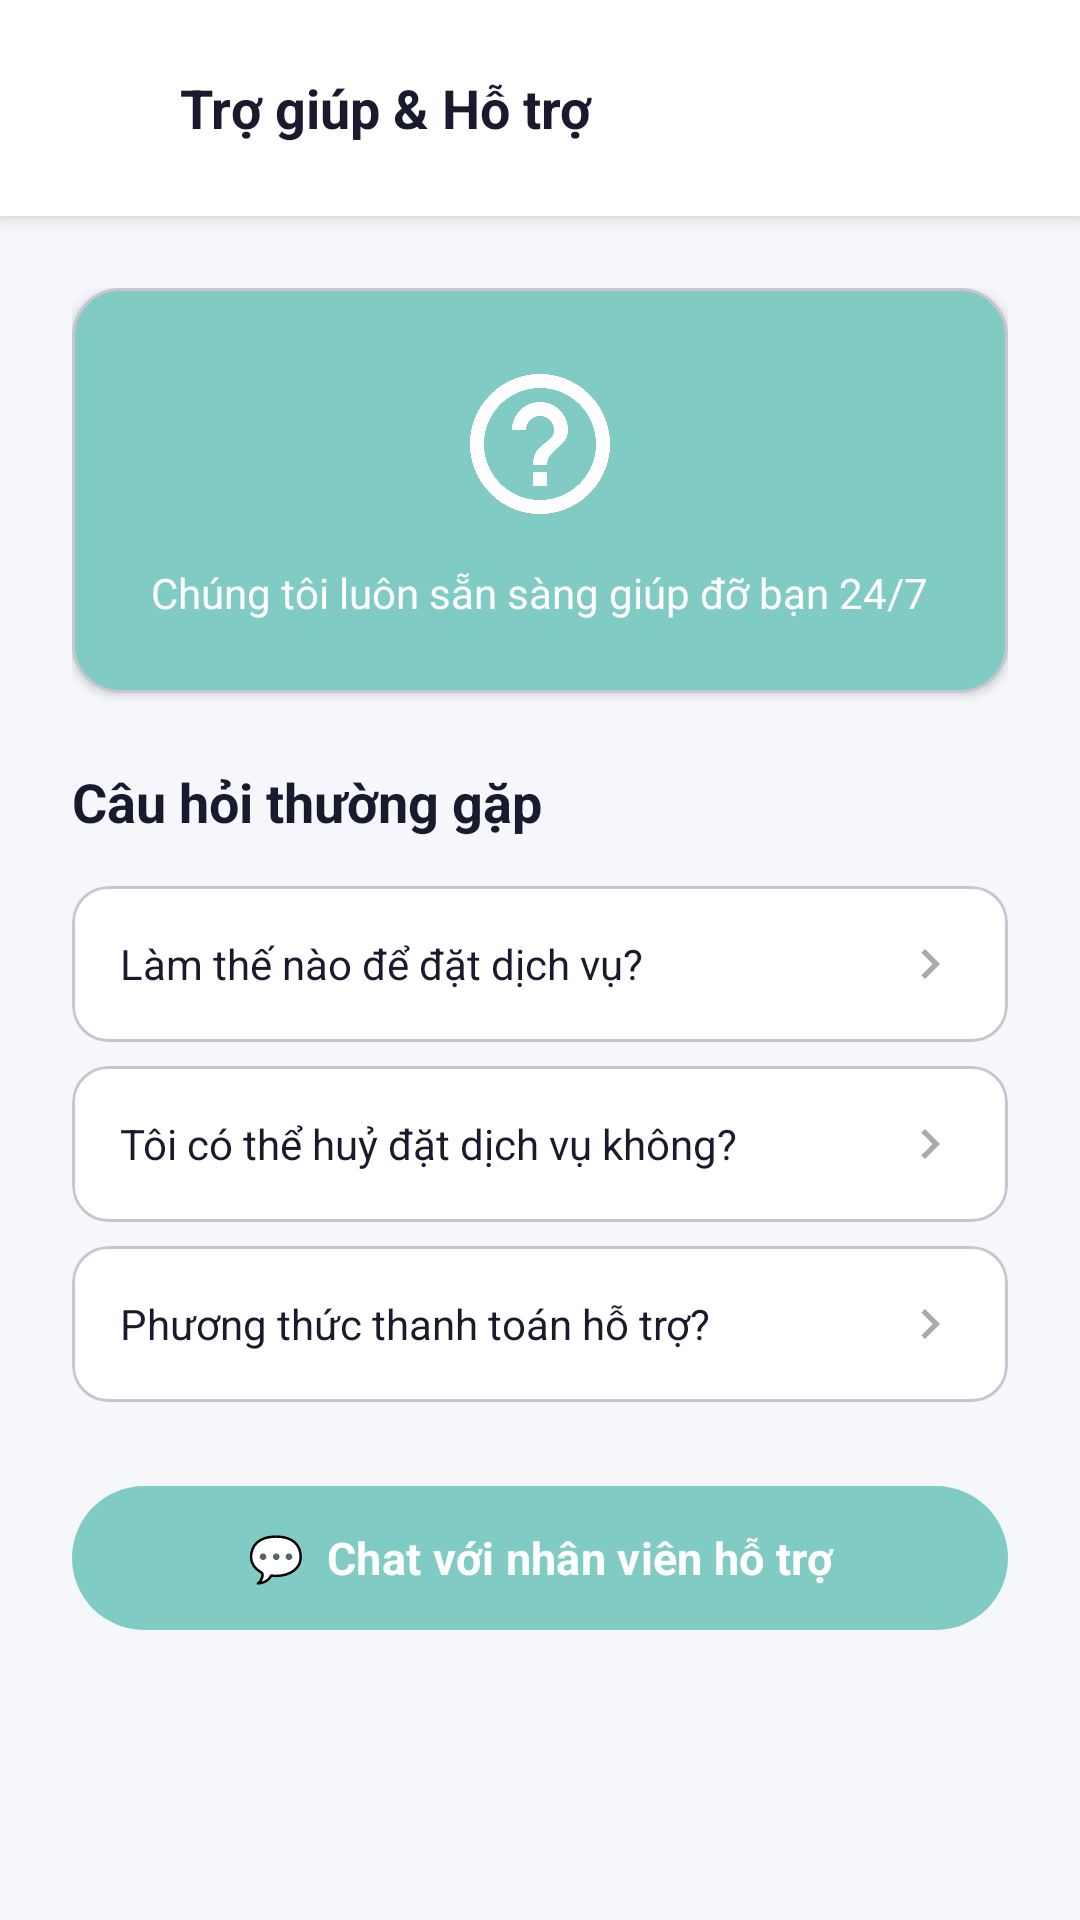

Icon click points for this 1080*1920 phone screenshot, format point (x, y):
chevron right: point (930, 964), point (930, 1144), point (930, 1324)
support: point (540, 444)
